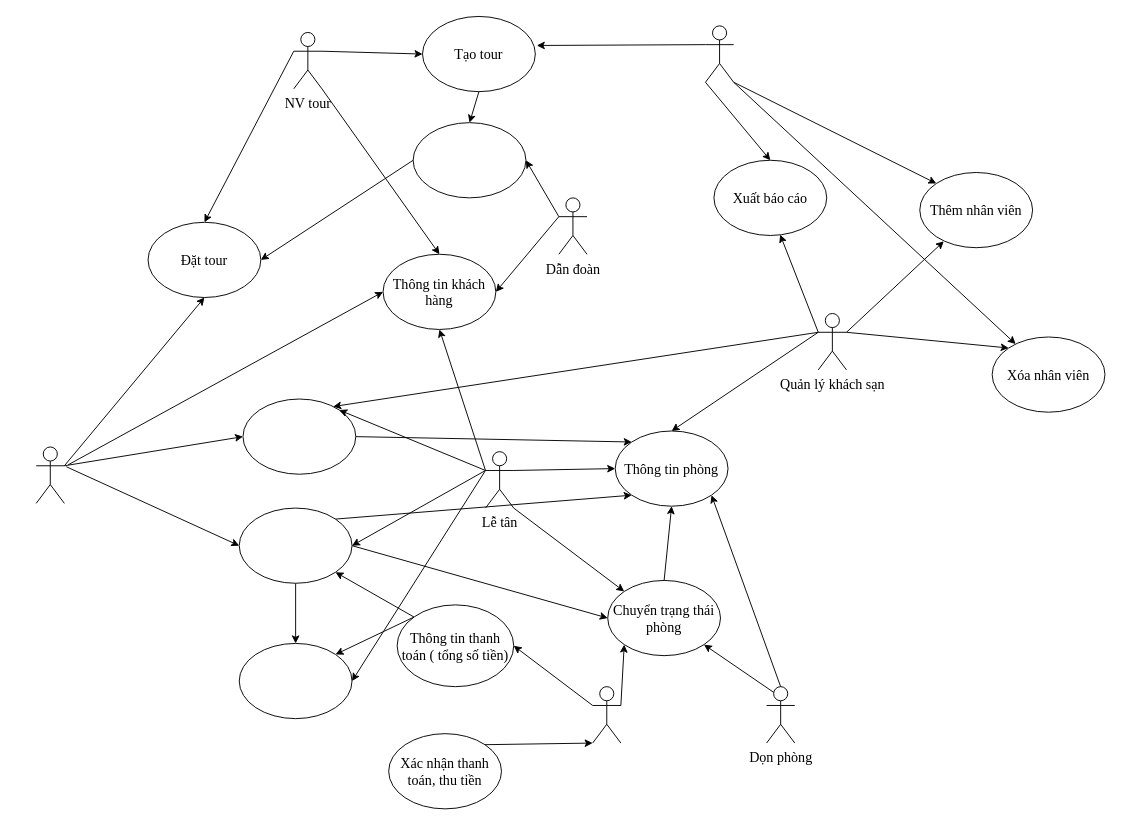
The diagram is 1121 pixels wide and 825 high, and some of its shapes have lost their labels. Each missing label, with the box of its shape:
Khách hàng: (35, 446, 64, 503)
Lấy phòng: (238, 507, 352, 583)
Quản lý tour: (705, 25, 734, 82)
Sử dụng dịch vụ: (238, 642, 352, 719)
Thu ngân: (592, 686, 621, 743)
Thông tin tour: (412, 122, 526, 198)
Đặt phòng: (242, 398, 356, 474)
